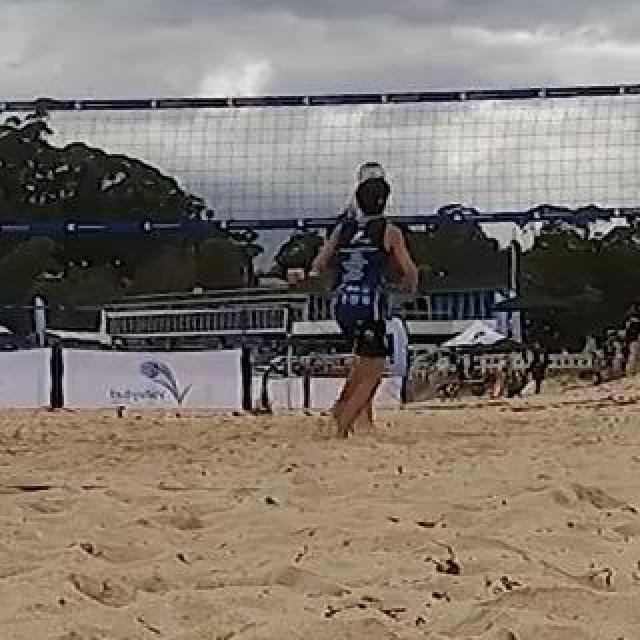volleyball: (356, 160, 386, 190)
